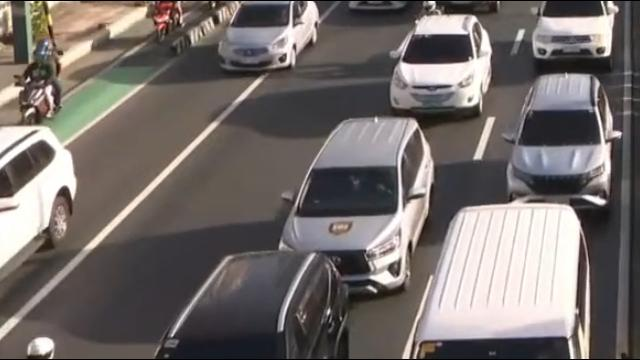car: (279, 118, 434, 298), (151, 252, 355, 360), (504, 74, 612, 211), (0, 125, 78, 293), (388, 14, 496, 118), (218, 0, 325, 69), (526, 0, 624, 64)
motorcycle: (14, 40, 62, 128), (152, 0, 181, 42)
van: (420, 202, 589, 360)
